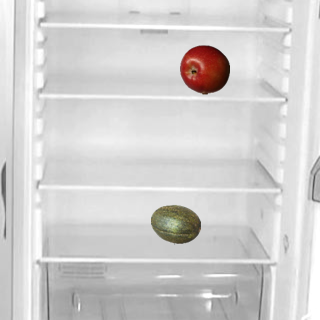Apple Braeburn: (179, 44, 229, 94)
Melon Piel de Sapo: (150, 199, 200, 249)
